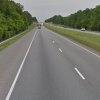Tree: (52, 7, 100, 30)
